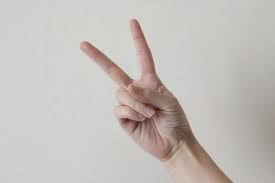peace_sign: (78, 16, 195, 159)
